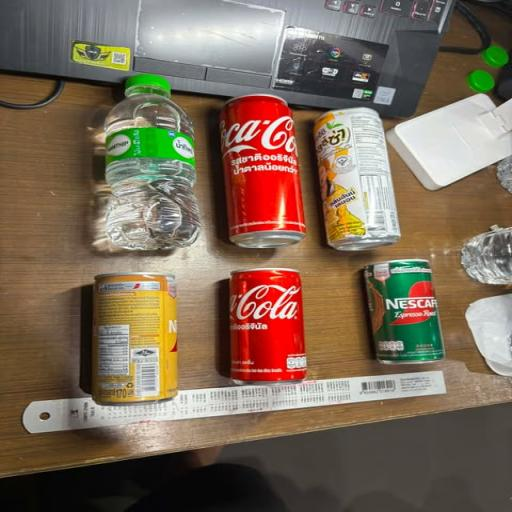bottle: (79, 62, 213, 258)
canned: (197, 76, 322, 256), (64, 261, 197, 417), (203, 254, 334, 404), (314, 95, 424, 254), (345, 254, 464, 378)
